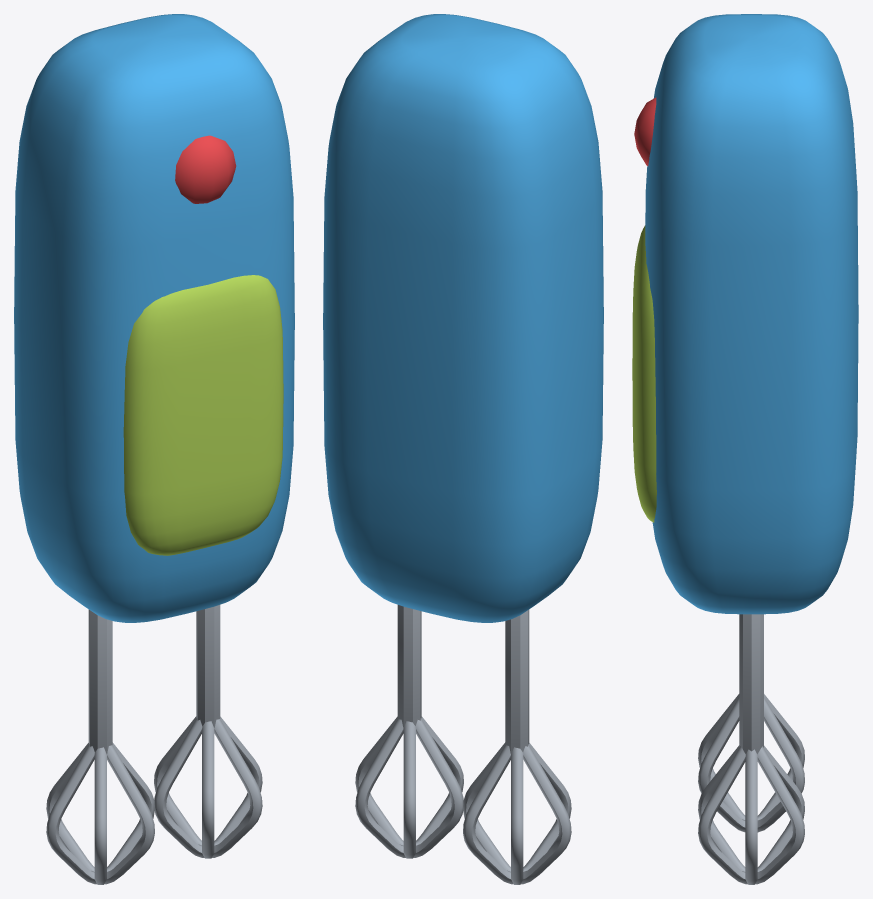
The model's file is batedeira_mao_azul.glb.
3 renders of one model, left to right at view 1: azimuth 30°, elevation 25°; view 2: azimuth 150°, elevation 25°; view 3: azimuth 270°, elevation 25°, orthographic.
Visible parts, largest first — view 1: batedeira_mao_azul; view 2: batedeira_mao_azul; view 3: batedeira_mao_azul.
Boxes of the visible parts, left/top/right/bottom form: batedeira_mao_azul: left=14, top=14, right=294, bottom=884; batedeira_mao_azul: left=323, top=14, right=603, bottom=884; batedeira_mao_azul: left=632, top=14, right=858, bottom=884.
Bounding box in the file's own units: 0.085 × 0.296 × 0.074.
1 material, 1 textured.
